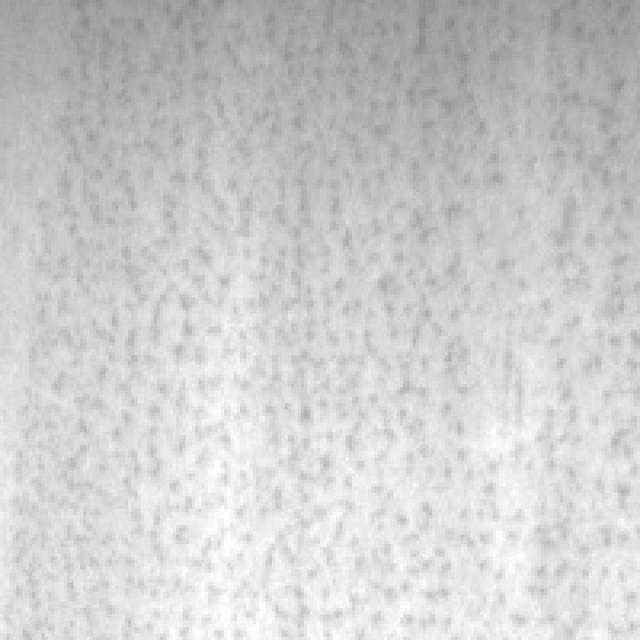pitted_surface: (9, 0, 636, 637)
